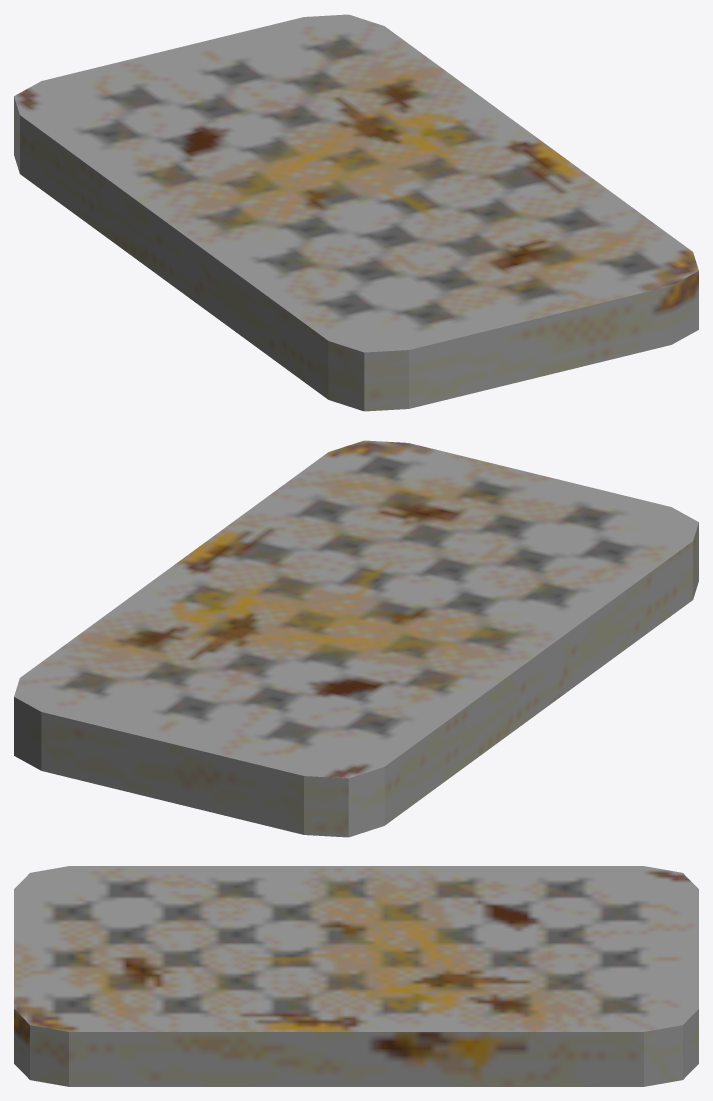
File: mattress.fbx
3 renders of one model, top to bottom at view 1: azimuth 30°, elevation 25°; view 2: azimuth 150°, elevation 25°; view 3: azimuth 270°, elevation 25°, orthographic. The views are drawn at different scales.
Parts seen in each view (by area): view 1: Куб; view 2: Куб; view 3: Куб.
Part boxes in pixels (x1,y1,x2,y2): Куб: (14,14,698,411); Куб: (14,440,698,837); Куб: (14,866,698,1086).
Size of the model in its own units: 127 by 19.66 by 222.
1 material, 1 textured.
